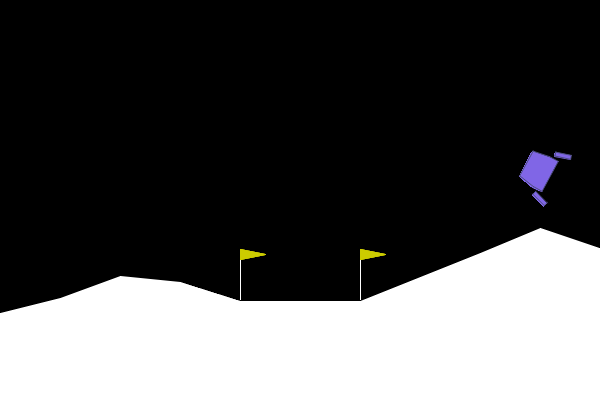lander: (510, 137, 574, 208)
